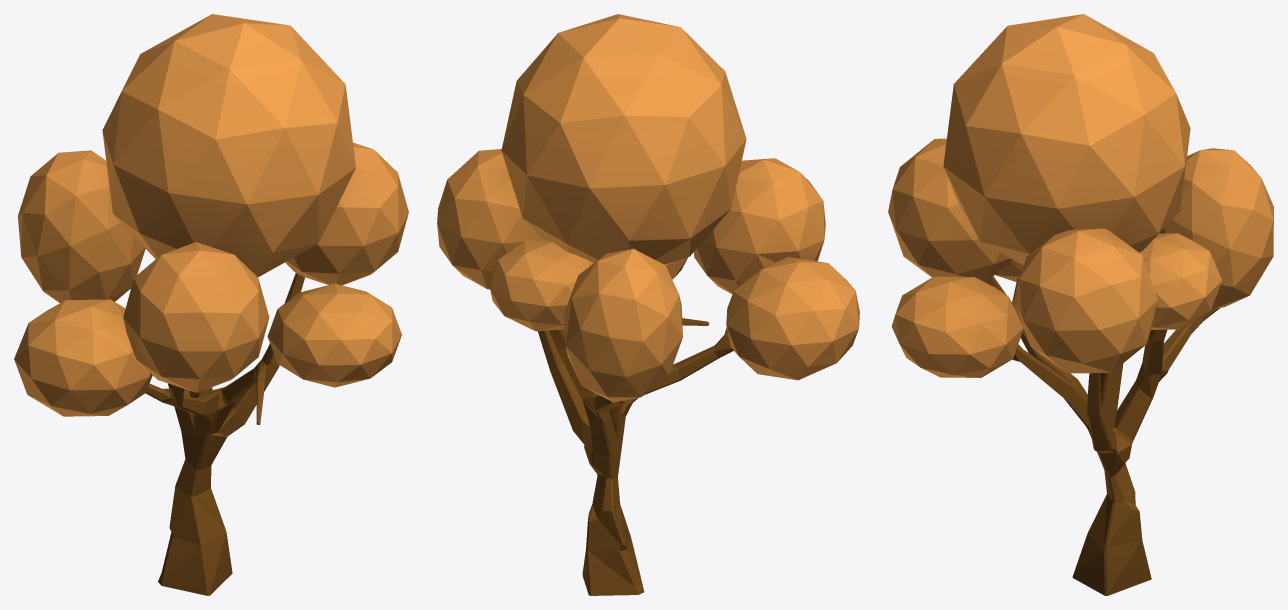
The model's file is tree_cluster.glb.
The picture shows the model from 3 angles, left to right: view 1: azimuth 30°, elevation 25°; view 2: azimuth 150°, elevation 25°; view 3: azimuth 270°, elevation 25°; orthographic projection. The views are drawn at different scales.
Parts seen in each view (by area): view 1: tree_cluster; view 2: tree_cluster; view 3: tree_cluster.
Part boxes in pixels (bbox=[...]): tree_cluster: bbox=[14, 14, 408, 595]; tree_cluster: bbox=[437, 14, 859, 595]; tree_cluster: bbox=[888, 14, 1273, 595].
Bounding box in the file's own units: 2.87 × 3.9 × 2.42.
Materials: 1 (1 with a texture image).
